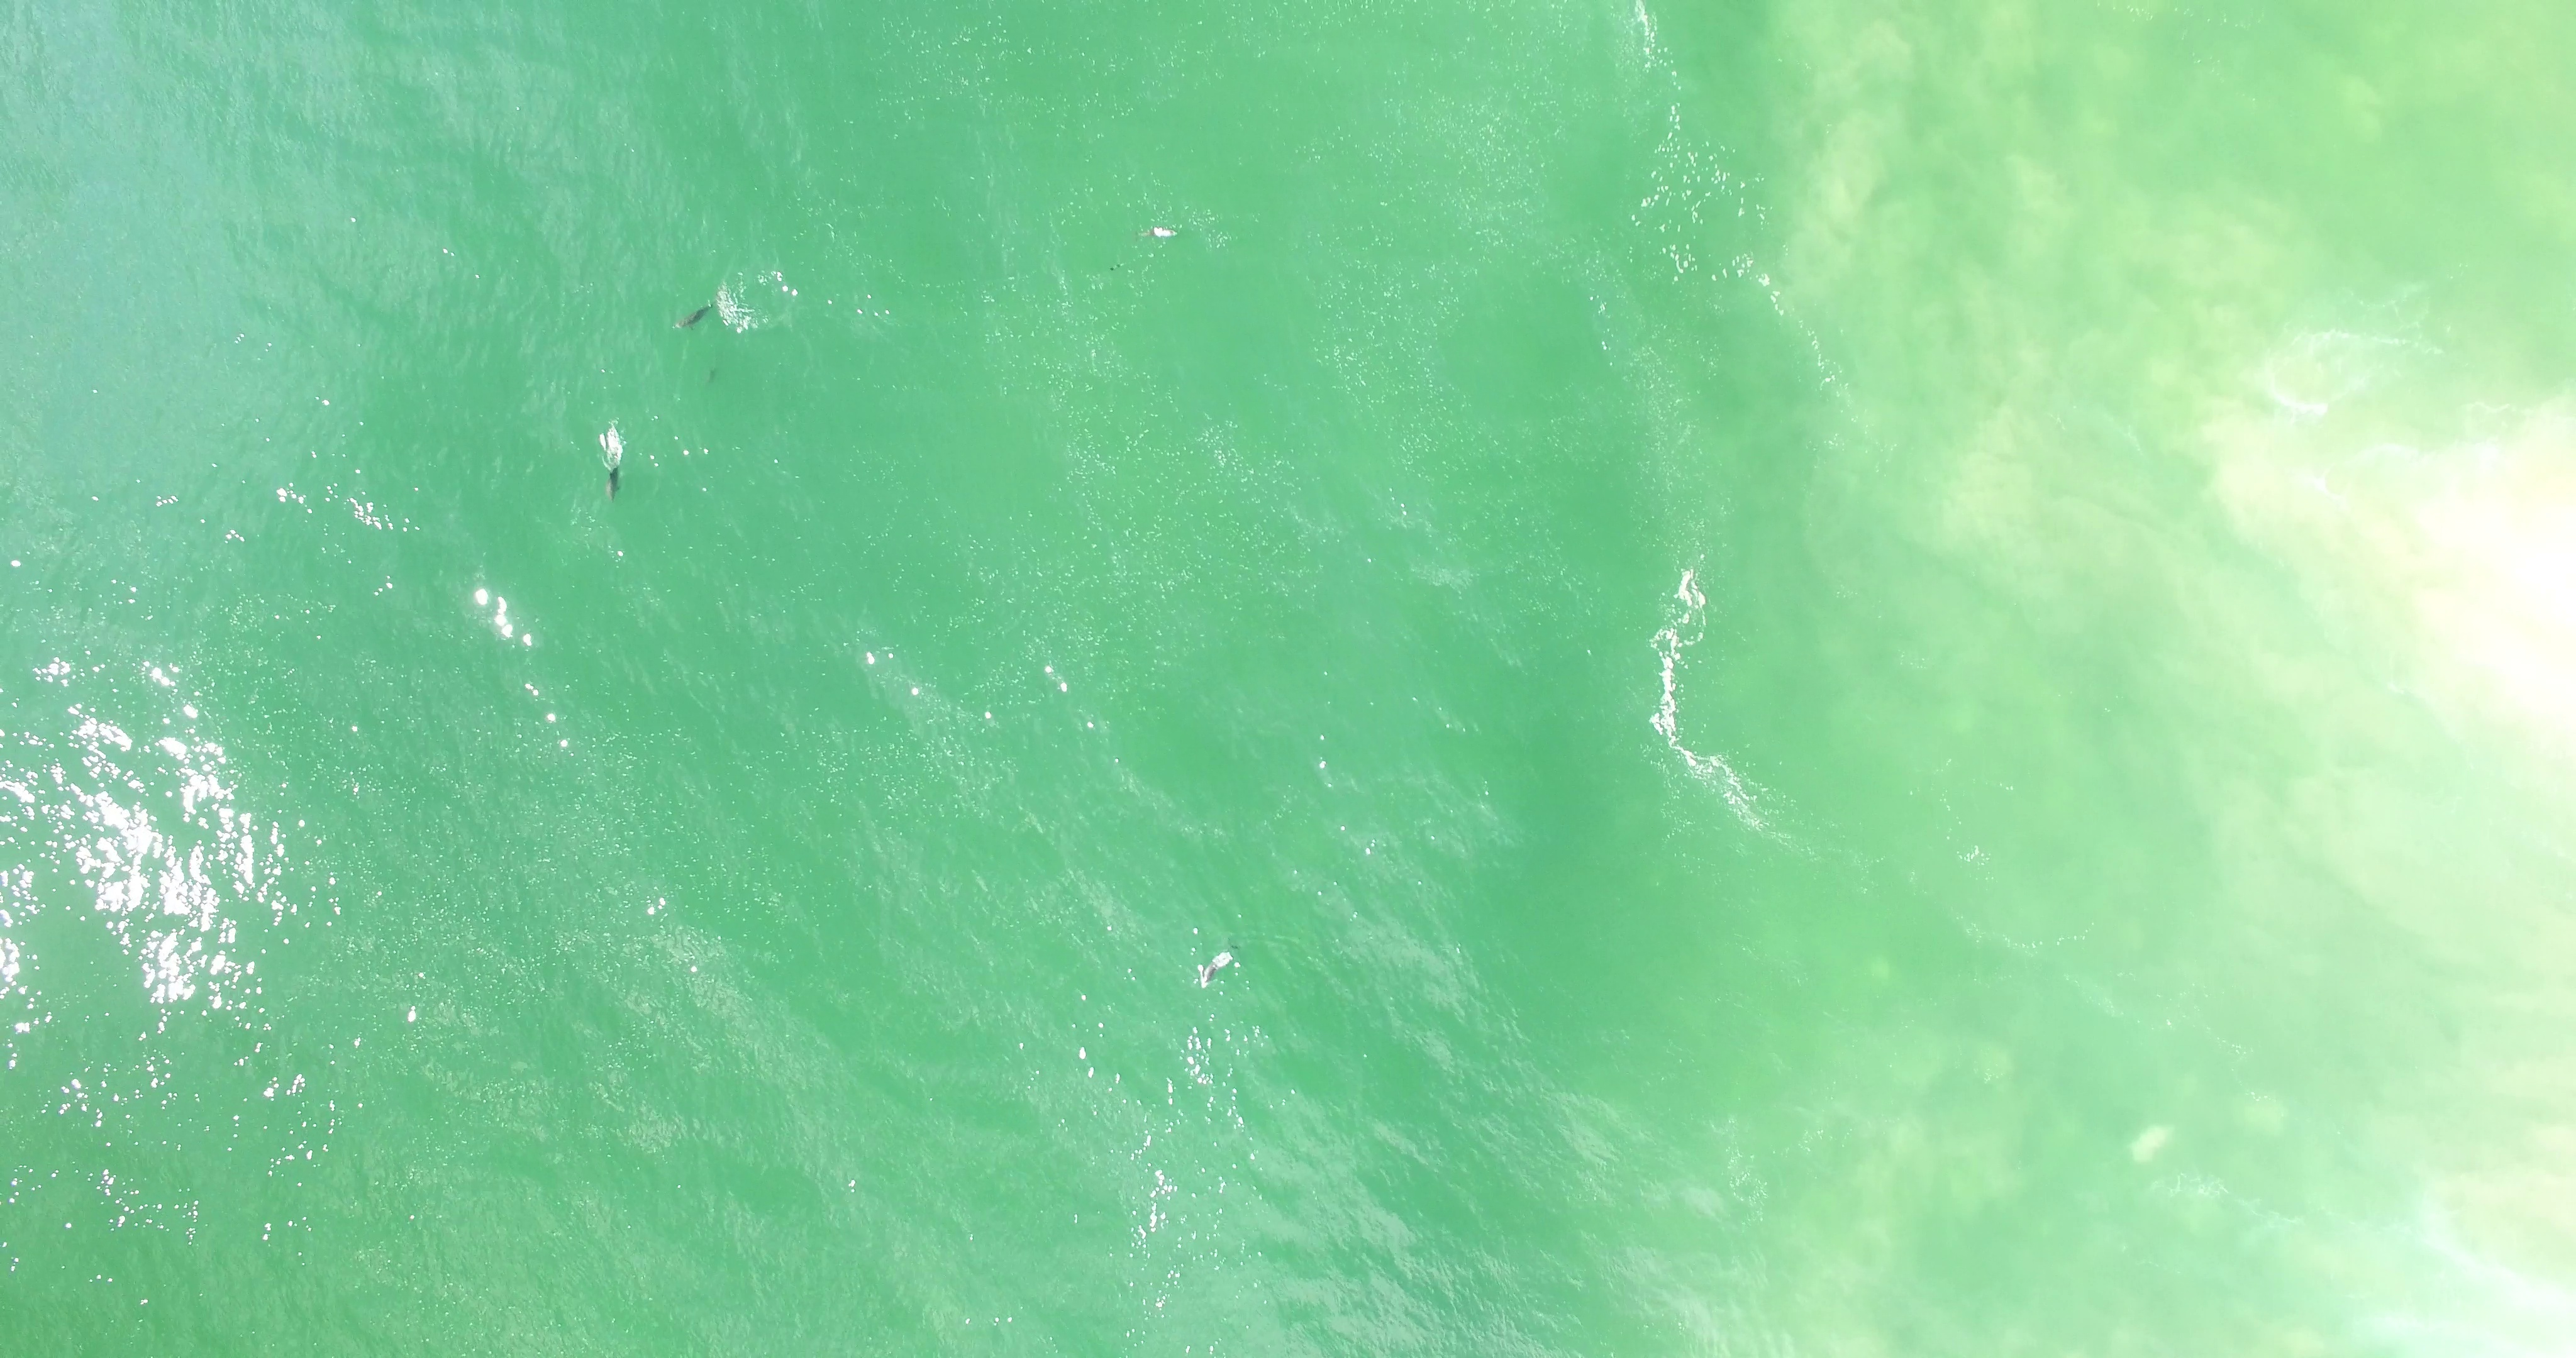dolphin: (1194, 946, 1235, 990), (673, 295, 721, 331), (605, 424, 625, 501)
